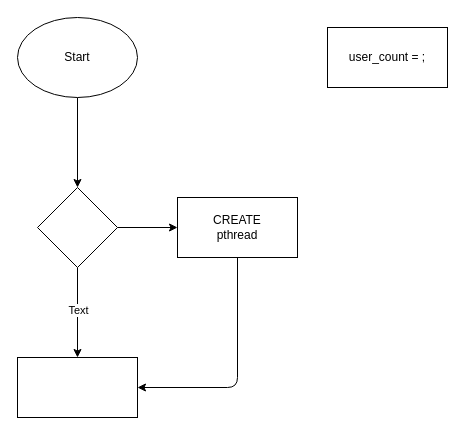
Some shapes in this 465 by 435 pixel diagram are drawn without their labels. The shapes that lost their labels are listed below. From the top down, each one's box as (x1, y1, x2, y2) in pixels, then its label:
(36, 186, 118, 268): user_count >=10
(16, 356, 138, 418): QUEUE user_count
